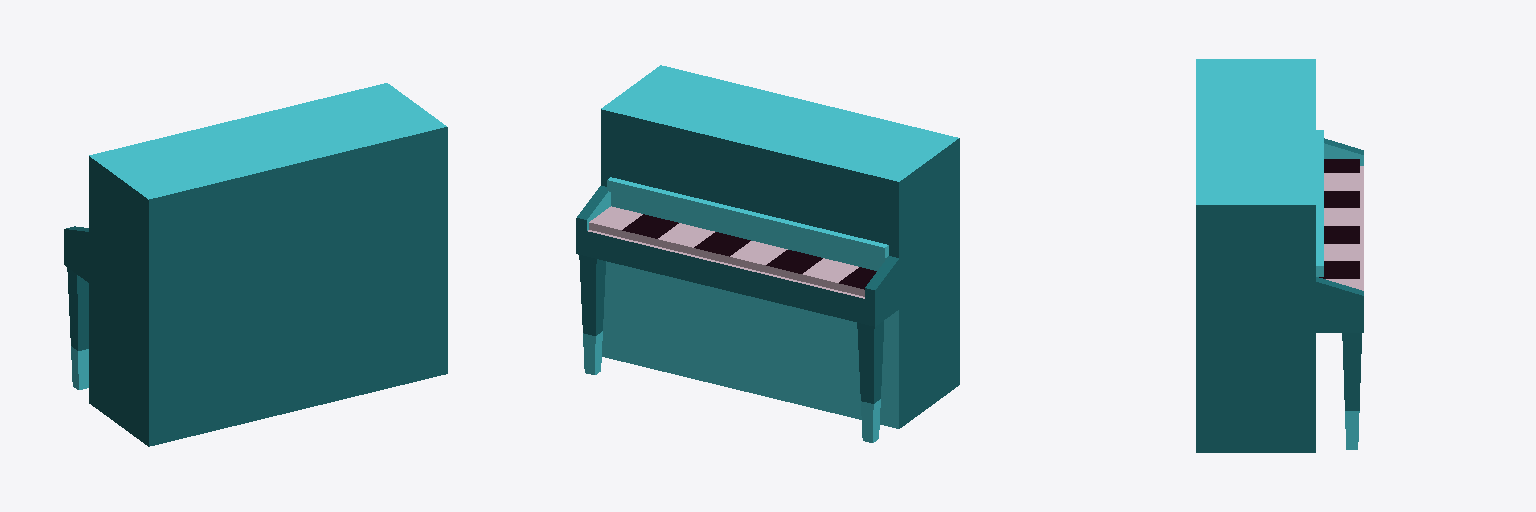
3 views of the same model, side by side, from view 1: azimuth 30°, elevation 25°; view 2: azimuth 150°, elevation 25°; view 3: azimuth 270°, elevation 25° (orthographic).
Parts seen in each view (by area): view 1: piano; view 2: piano, keys; view 3: piano, keys.
Part boxes in pixels (x1,y1,x2,y2): piano: (64,83,447,446); piano: (576,65,959,442); keys: (589,206,876,296); piano: (1196,59,1363,452); keys: (1319,159,1359,289).
Size of the model in its own units: 0.5375 by 0.425 by 0.2625.
Materials: 2 (2 with a texture image).